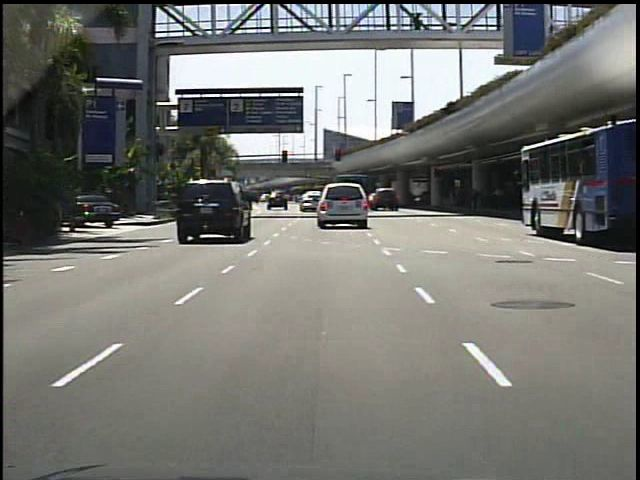person: (407, 12, 426, 43)
